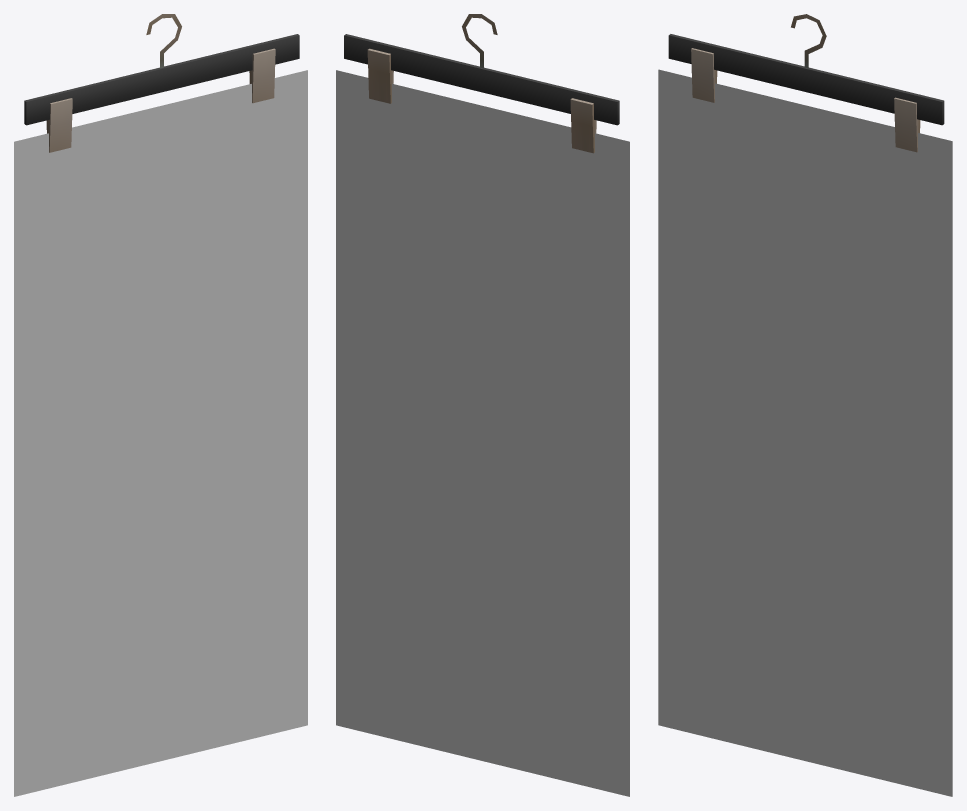
File: Hang_Towel_05.FBX
The picture shows the model from 3 angles, left to right: view 1: azimuth 30°, elevation 25°; view 2: azimuth 150°, elevation 25°; view 3: azimuth 330°, elevation 25°; orthographic projection.
Visible parts, largest first — view 1: Hang_Towel_05; view 2: Hang_Towel_05; view 3: Hang_Towel_05.
Boxes of the visible parts, x1=… form: Hang_Towel_05: x1=14, y1=14, x2=307, y2=796; Hang_Towel_05: x1=336, y1=14, x2=629, y2=796; Hang_Towel_05: x1=658, y1=14, x2=952, y2=796.
Size of the model in its own units: 0.4782 by 0.0145 by 1.16.
